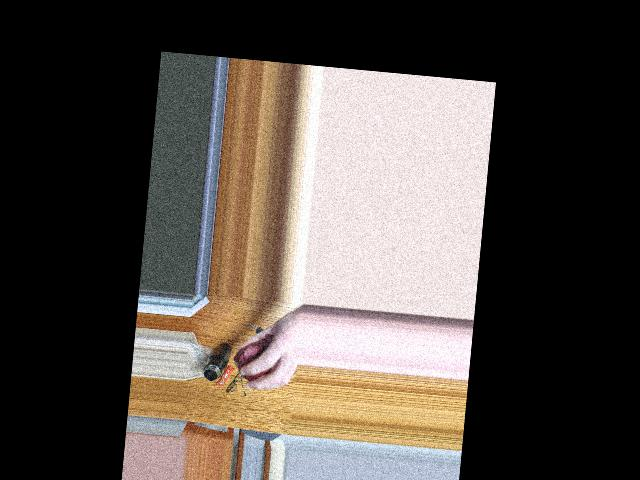onion: (235, 342, 273, 383)
